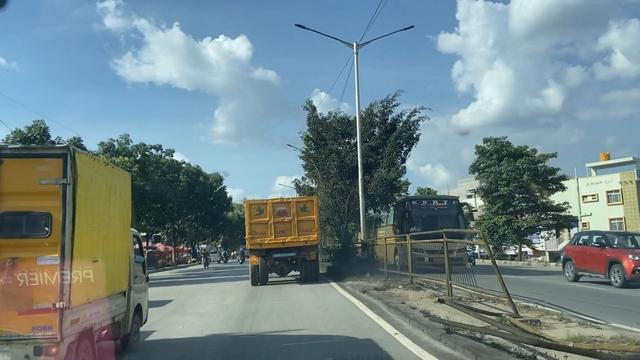HMV: (2, 149, 153, 360), (242, 199, 321, 280)
